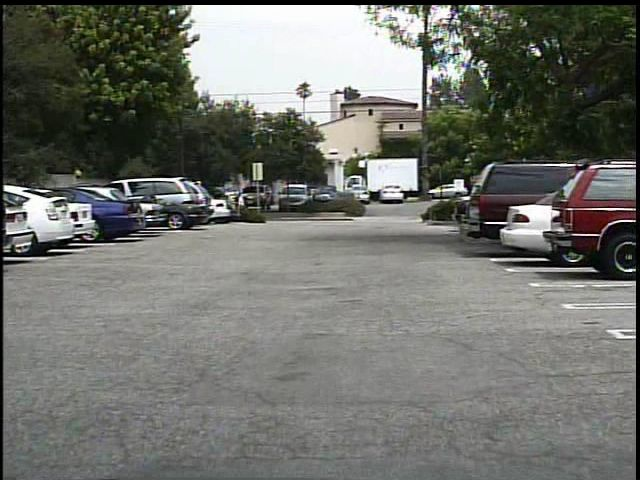person: (221, 189, 237, 219), (230, 189, 243, 220), (234, 193, 248, 221)
